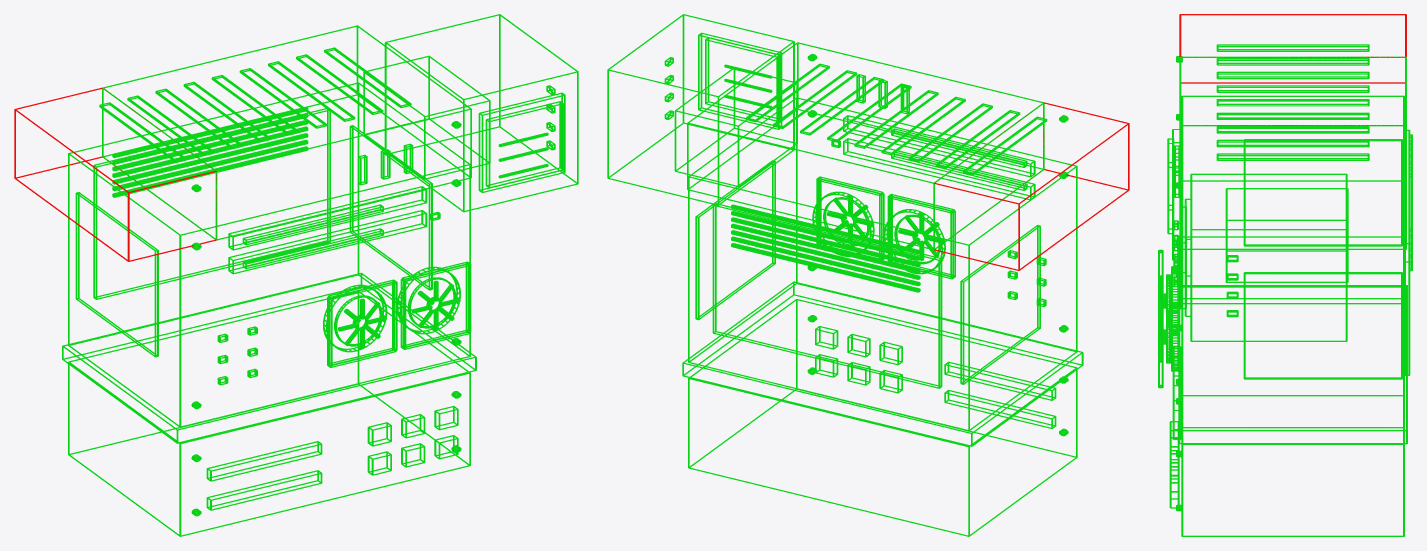
Rendered from asteroid-tracker-highlight-data-storage.glb.
3 renders of one model, left to right at view 1: azimuth 30°, elevation 25°; view 2: azimuth 150°, elevation 25°; view 3: azimuth 270°, elevation 25°, orthographic. The views are drawn at different scales.
Visible parts, largest first — view 1: chassis technical wire, user-interface technical wire, cooling-fans technical wire, data-storage technical wire; view 2: chassis technical wire, user-interface technical wire, cooling-fans technical wire, data-storage technical wire; view 3: chassis technical wire, user-interface technical wire, cooling-fans technical wire, data-storage technical wire.
Boxes of the visible parts, box(x1,y1,x2,y2) form: chassis technical wire: box(62, 25, 476, 536); user-interface technical wire: box(363, 14, 578, 212); cooling-fans technical wire: box(323, 261, 471, 367); data-storage technical wire: box(14, 87, 216, 261); chassis technical wire: box(682, 42, 1083, 536); user-interface technical wire: box(607, 14, 797, 205); cooling-fans technical wire: box(812, 176, 955, 279); data-storage technical wire: box(934, 102, 1129, 270); chassis technical wire: box(1167, 44, 1412, 536); user-interface technical wire: box(1177, 173, 1348, 341); cooling-fans technical wire: box(1158, 249, 1179, 388); data-storage technical wire: box(1179, 14, 1406, 125).
Size of the model in its own units: 2.6 by 1.98 by 1.26.
